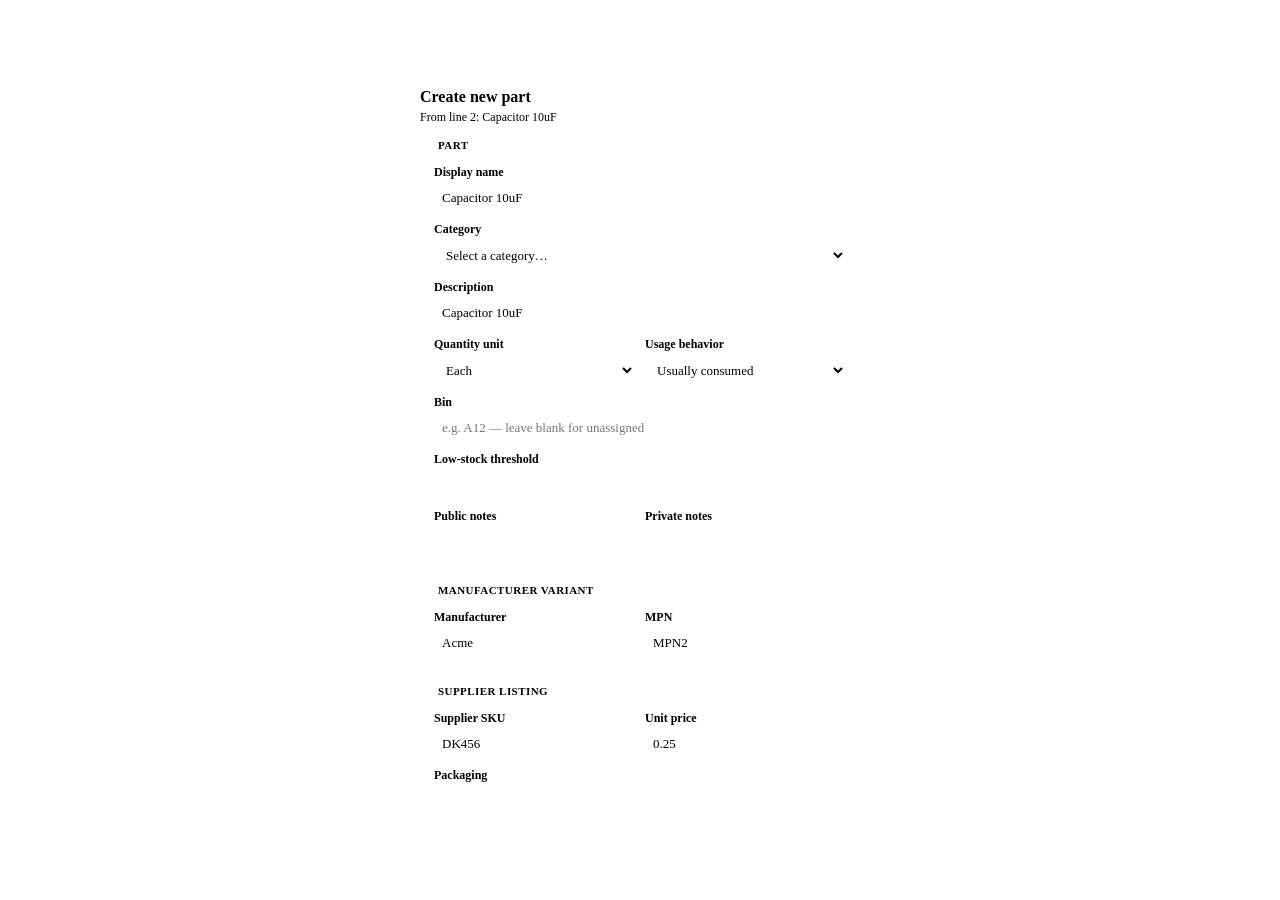
Test: CreateFromLineDialog › warns (without blocking) when the entered bin already holds other parts
Select "Capacitor" in the dropdown labelled "Category" at (640, 255), box [434,240,846,270]
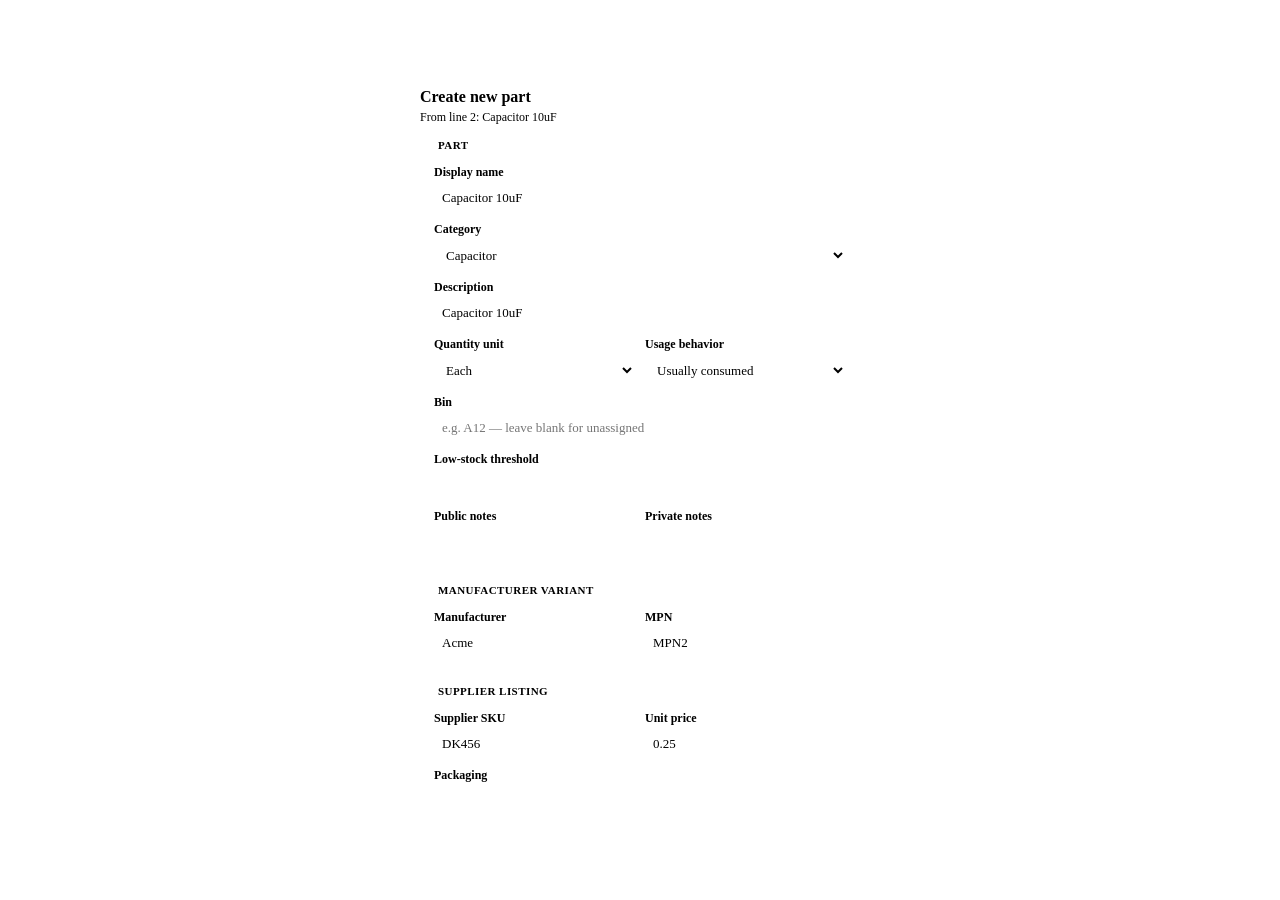
Type "a12" into the field labelled "Bin" at (640, 428), box [434,414,846,442]
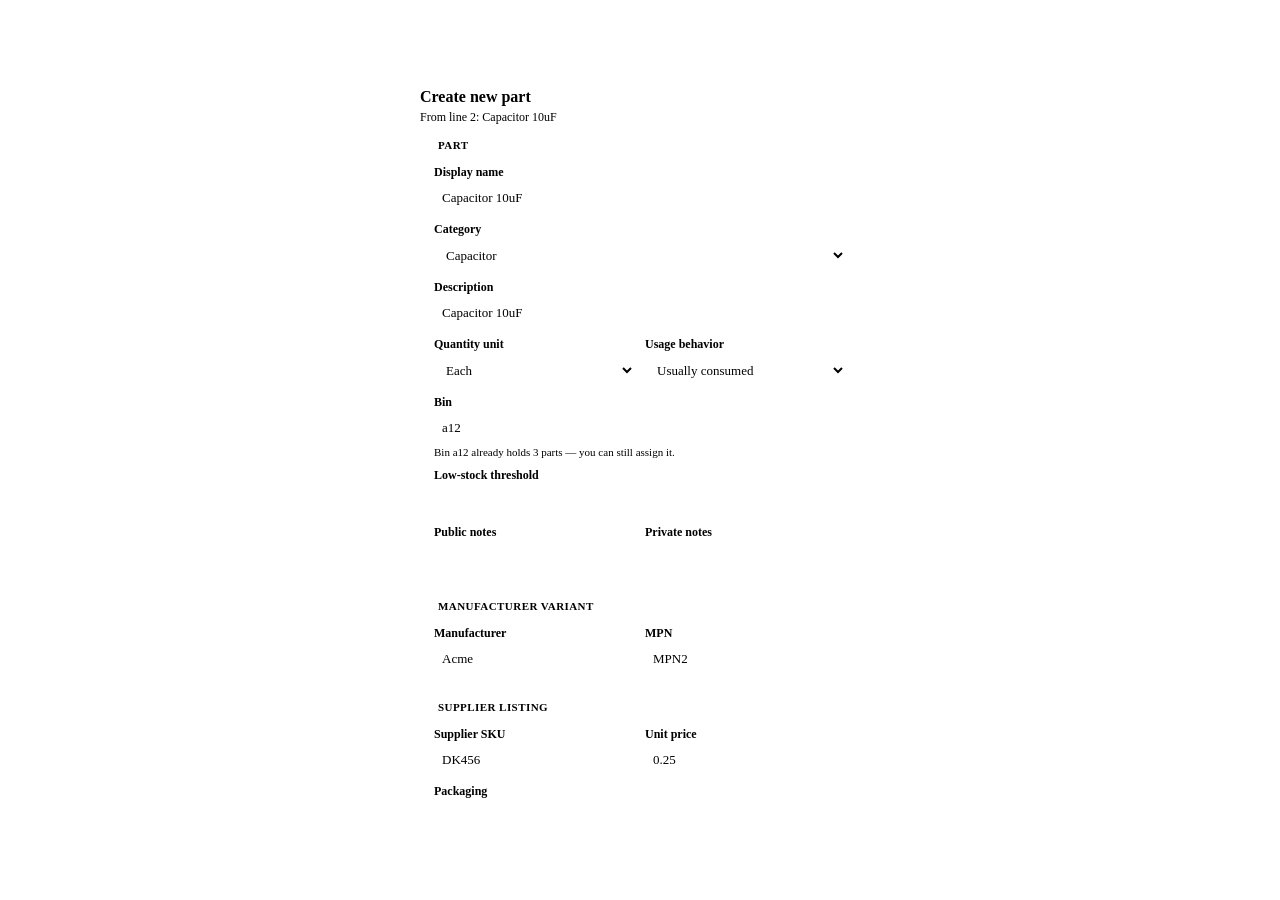
Check: the text "Bin a12 already holds 3 parts — you can still assign it." is shown, box [434,446,675,458]
